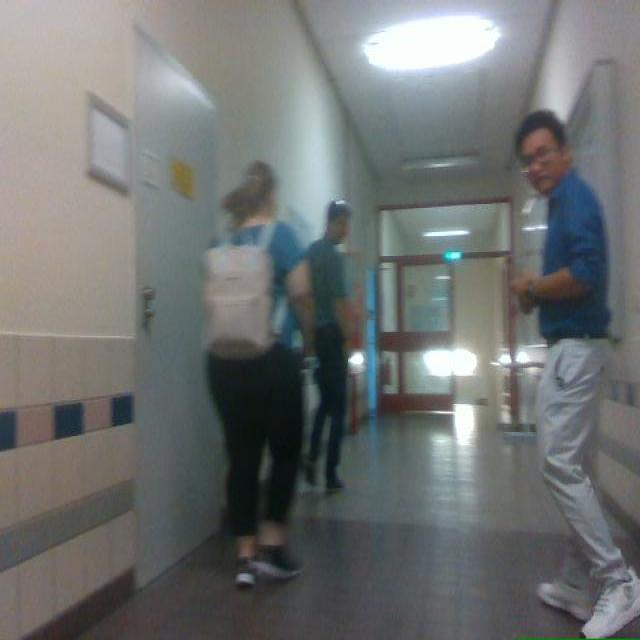humans: (512, 111, 639, 638), (208, 334, 302, 586), (305, 200, 350, 493)
objects: (203, 224, 275, 358)
